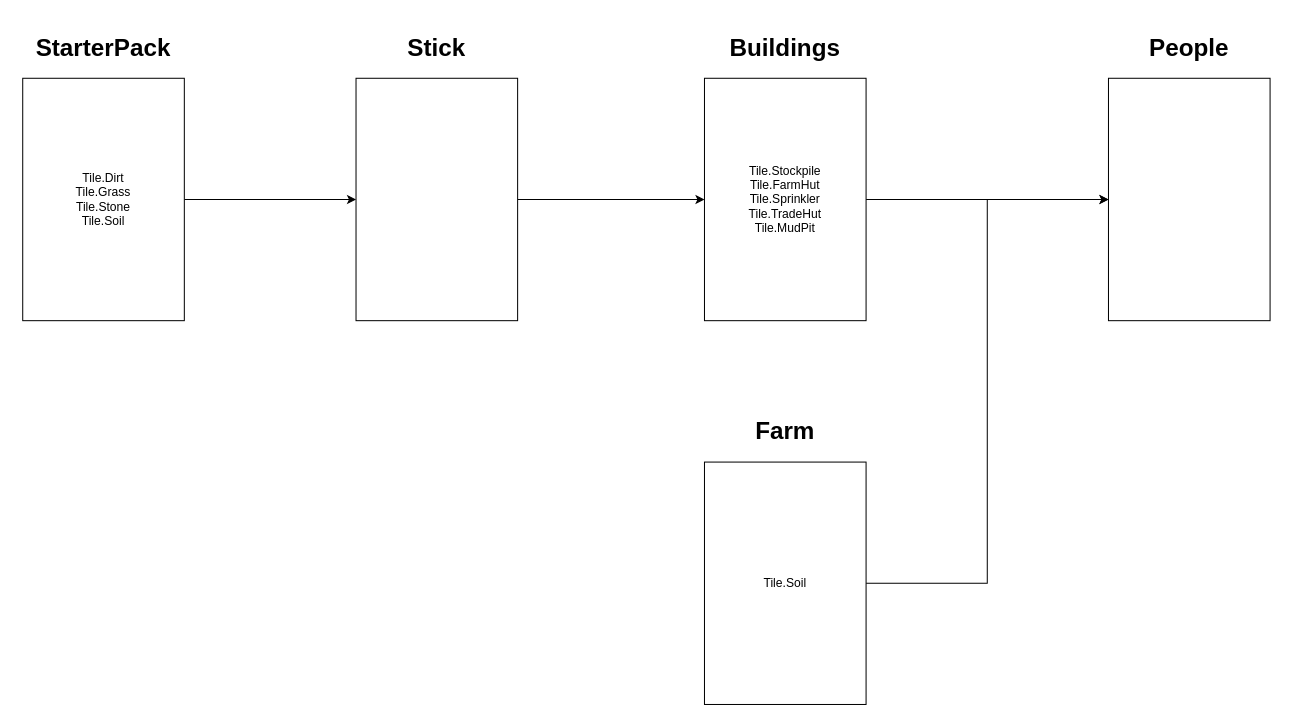
The diagram is 1302 pixels wide and 722 high, and some of its shapes have lost their labels. The centre of each missing label's shape, as x and y in pixels:
"Dog" belongs at (x=1188, y=199).
"Tile.OakTree Tile.Stone Tile.Cave Tile.BerryShrub Tile.BirdNest" belongs at (x=436, y=199).
